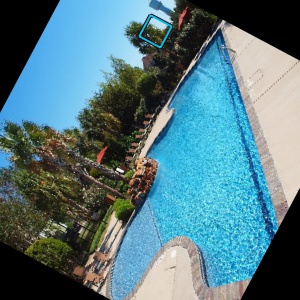square: (138, 13, 174, 49)
